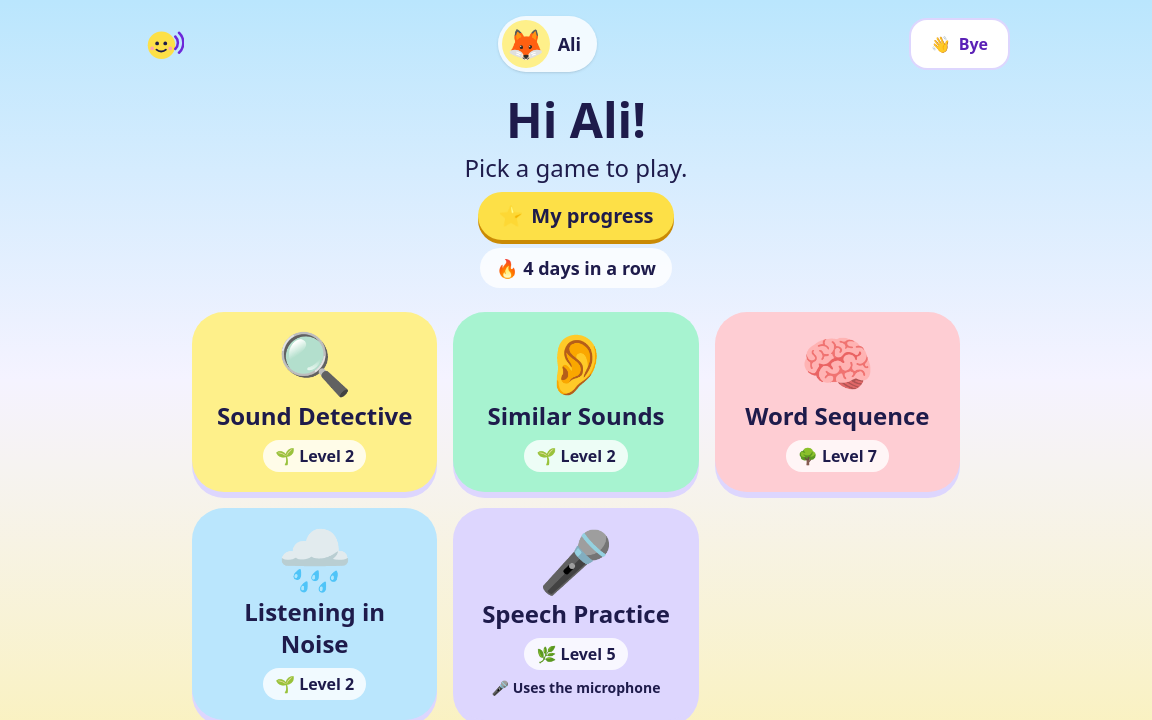
Test: Child home › never asks for therapist notes or learning plans
Click the link "🔍 Sound Detective 🌱 Level 2": (315, 402) [192,312,437,492]
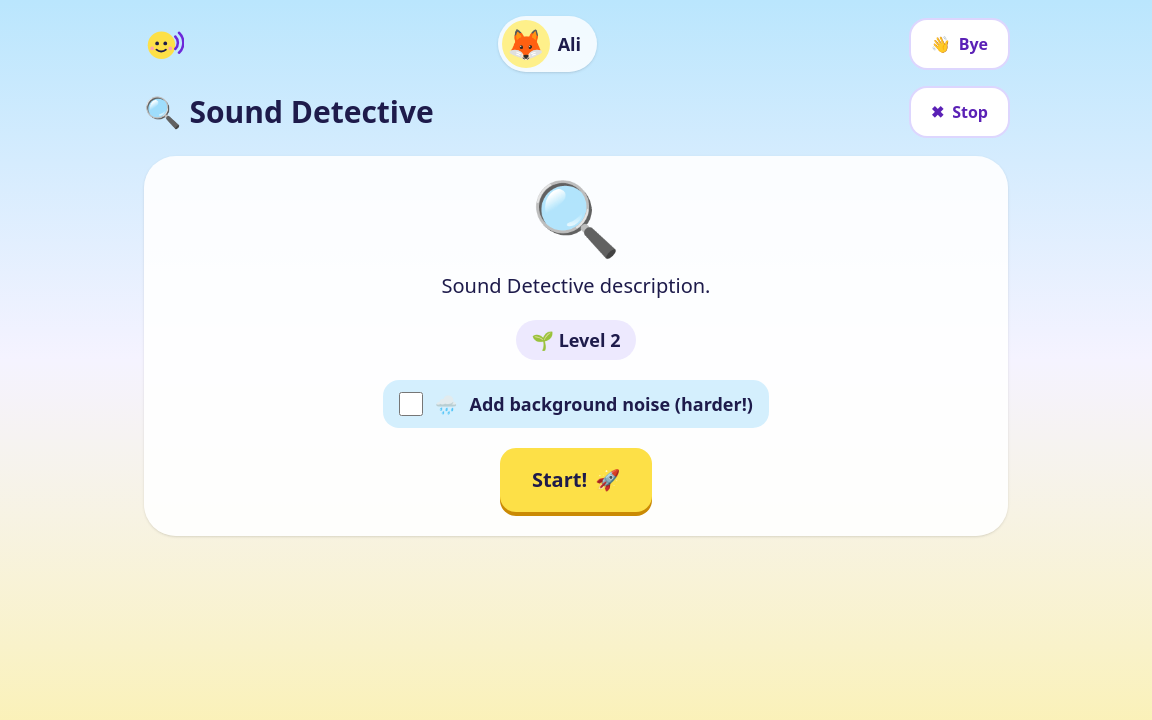
Check: the button "Start! 🚀" is shown, box [500,448,652,512]
